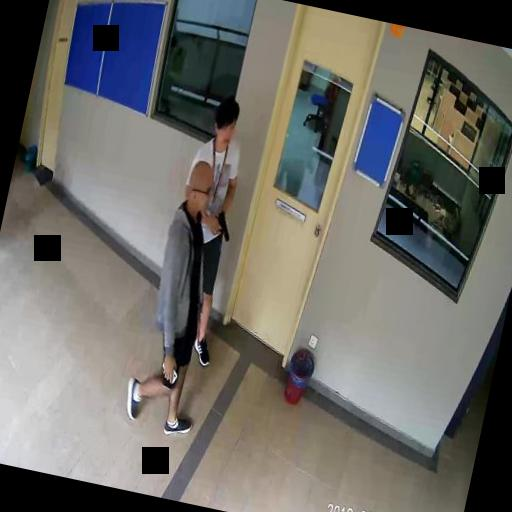Handgun: (212, 209, 232, 240)
